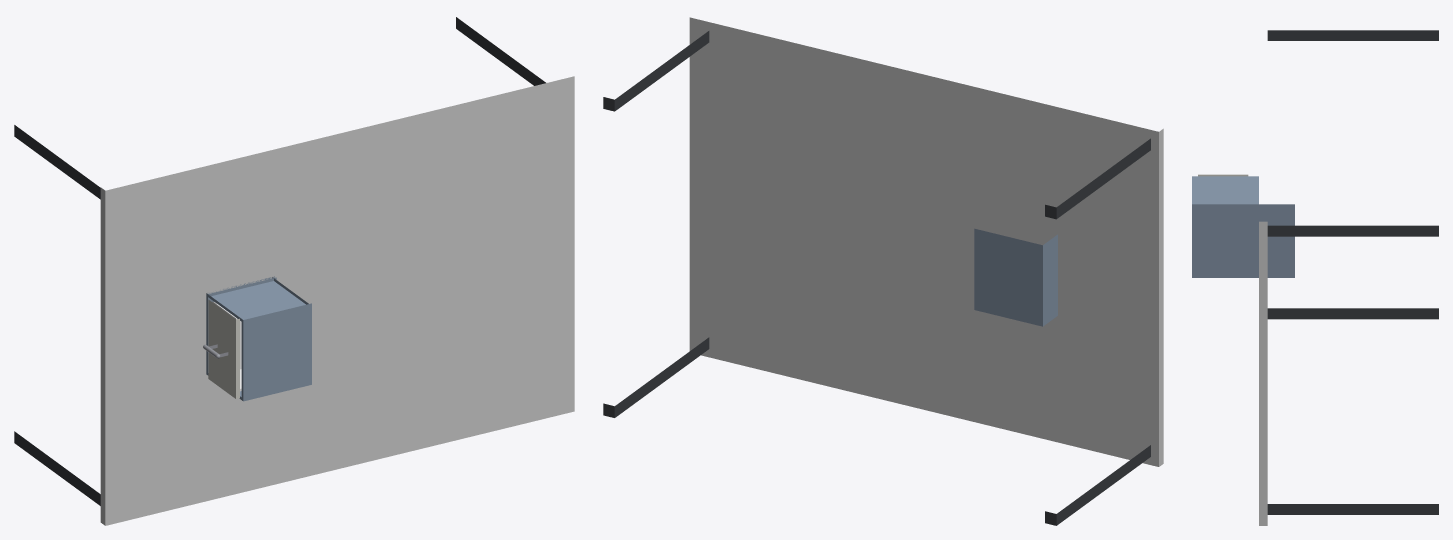
3 views of the same model, side by side, from view 1: azimuth 30°, elevation 25°; view 2: azimuth 150°, elevation 25°; view 3: azimuth 270°, elevation 25° (orthographic). The views are drawn at different scales.
Visible parts, largest first — view 1: s0, s1, s2; view 2: s0, s1; view 3: s0, s1.
Part boxes in pixels (x1,y1,x2,y2): s0: (14,17,574,525); s1: (206,276,311,401); s2: (203,299,241,398); s0: (603,17,1163,525); s1: (974,228,1057,326); s0: (1259,30,1438,525); s1: (1192,176,1294,277).
Bounding box in the file's own units: 2.05 × 1.4 × 1.03.
